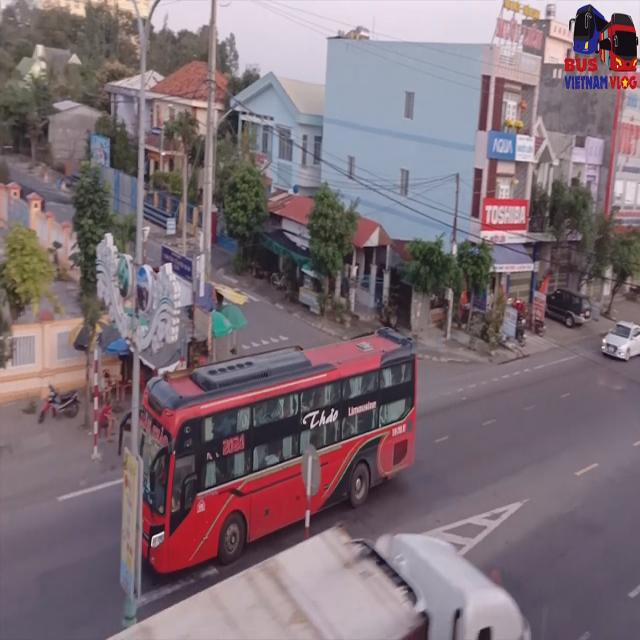bus: (134, 335, 418, 588)
car: (602, 322, 640, 365)
